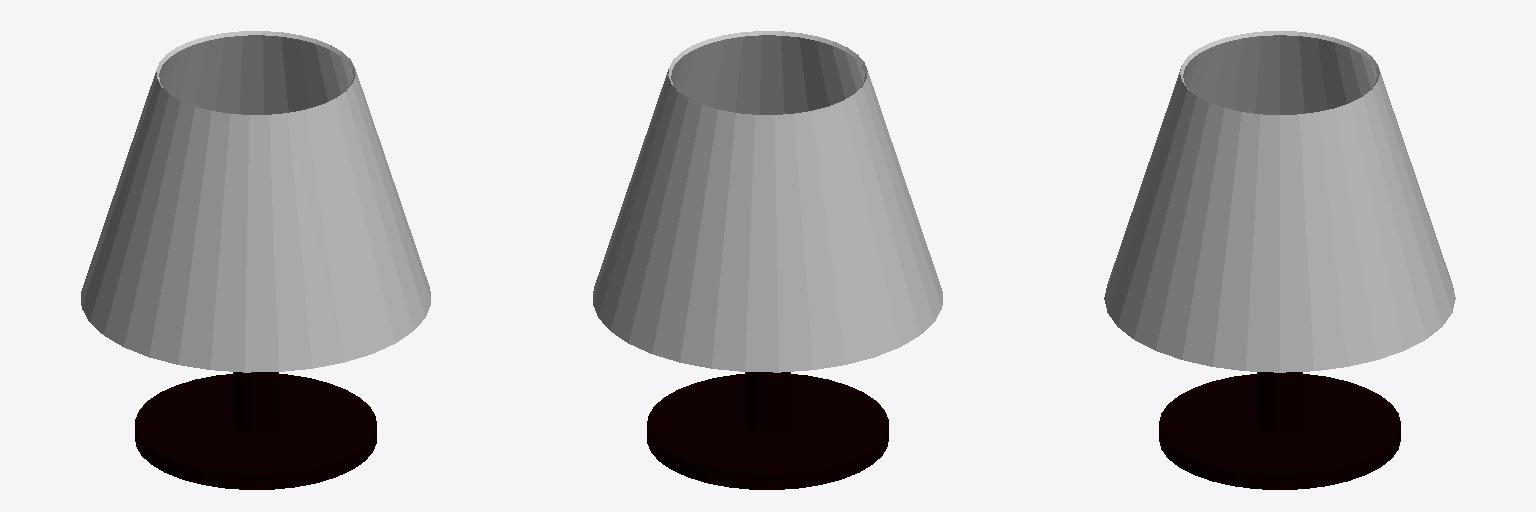
Rendered from lamp.obj.
3 views of the same model, side by side, from view 1: azimuth 30°, elevation 25°; view 2: azimuth 150°, elevation 25°; view 3: azimuth 270°, elevation 25° (orthographic).
Visible parts, largest first — view 1: Cylinder.002, Cylinder.001; view 2: Cylinder.002, Cylinder.001; view 3: Cylinder.002, Cylinder.001.
Boxes of the visible parts, x1=… form: Cylinder.002: x1=81, y1=31, x2=430, y2=372; Cylinder.001: x1=135, y1=372, x2=376, y2=489; Cylinder.002: x1=593, y1=31, x2=942, y2=372; Cylinder.001: x1=647, y1=372, x2=888, y2=489; Cylinder.002: x1=1104, y1=31, x2=1455, y2=372; Cylinder.001: x1=1159, y1=372, x2=1400, y2=489.
Size of the model in its own units: 0.5373 by 0.6171 by 0.5373.